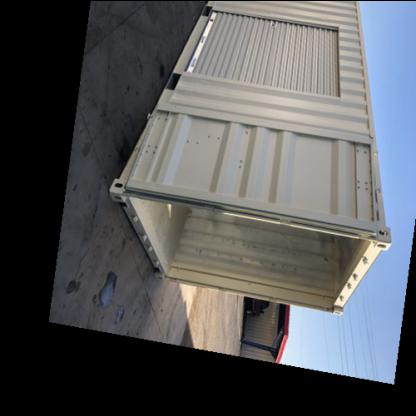Damage: (137, 132, 253, 167)
